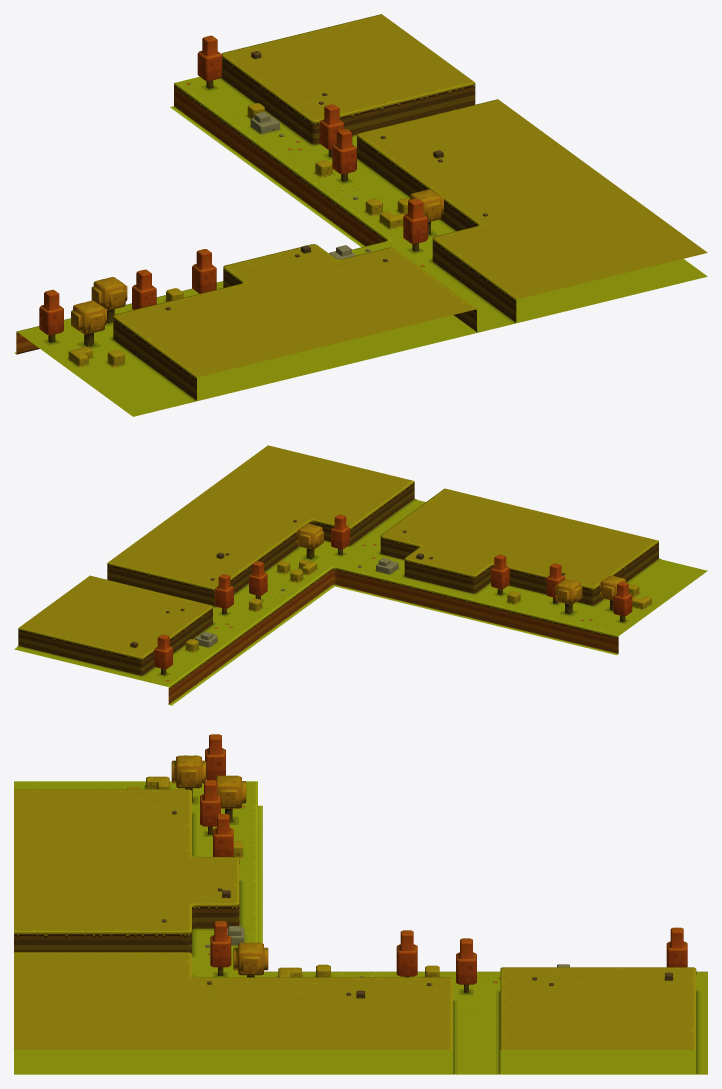
Rendered from C_grass2_out_LU.fbx.
3 renders of one model, top to bottom at view 1: azimuth 30°, elevation 25°; view 2: azimuth 150°, elevation 25°; view 3: azimuth 270°, elevation 25°, orthographic. The views are drawn at different scales.
Visible parts, largest first — view 1: C_grass2_out_LU; view 2: C_grass2_out_LU; view 3: C_grass2_out_LU.
Part boxes in pixels (box(x1,y1,x2,y2)): C_grass2_out_LU: box(14, 14, 707, 416); C_grass2_out_LU: box(14, 445, 707, 705); C_grass2_out_LU: box(14, 734, 707, 1074).
Bounding box in the file's own units: 117 × 14.32 × 117.
